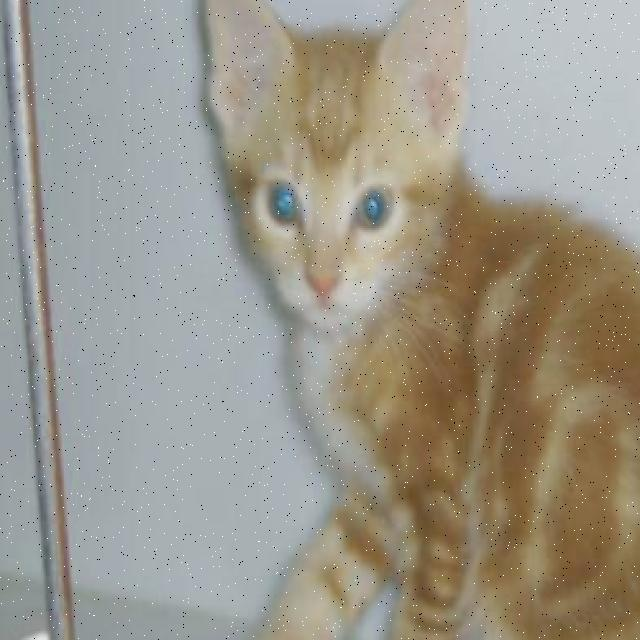Cat: (200, 0, 478, 355)
